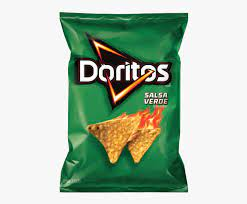Doritos: (57, 10, 193, 195)
